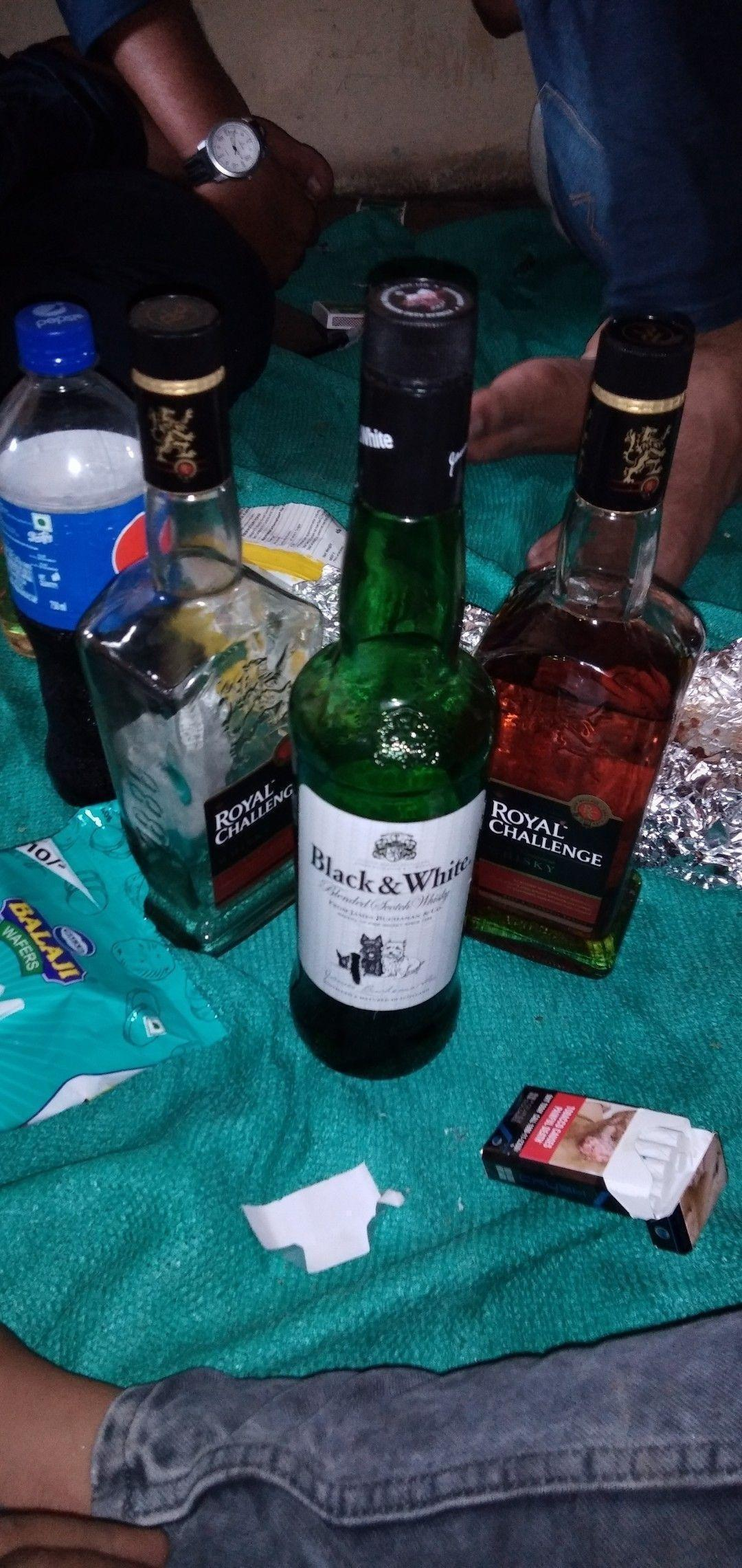bottle-glass: (284, 260, 499, 1085), (78, 294, 330, 952), (465, 309, 701, 983)
bottle-plastic: (1, 294, 147, 810)
